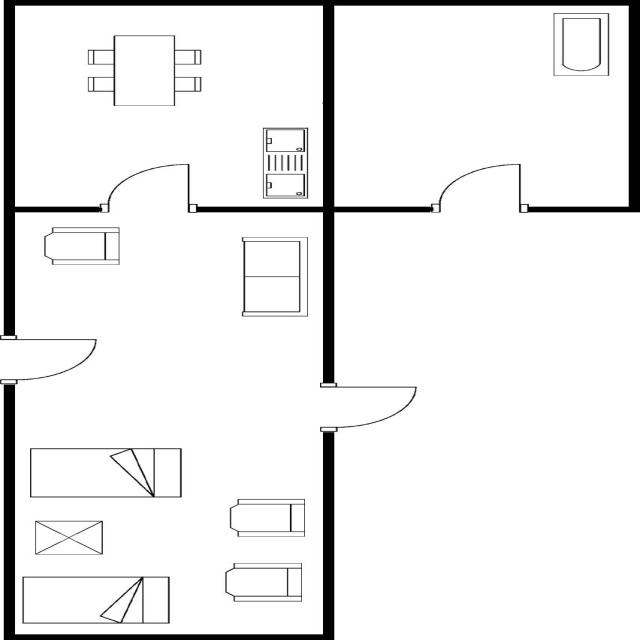armchair: (218, 560, 309, 604), (224, 496, 311, 540), (40, 225, 124, 267)
bed: (25, 442, 186, 500), (18, 574, 175, 627)
coffee_table: (31, 518, 108, 558)
dining_table: (79, 30, 208, 111)
large_sofa: (236, 234, 315, 320)
tub: (547, 8, 614, 78)
twin_sink: (256, 123, 316, 200)
